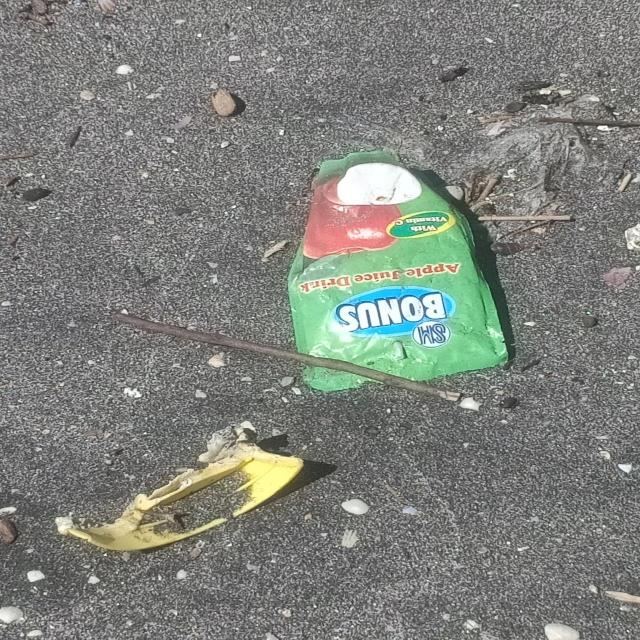plastic_waste: (287, 151, 511, 394)
